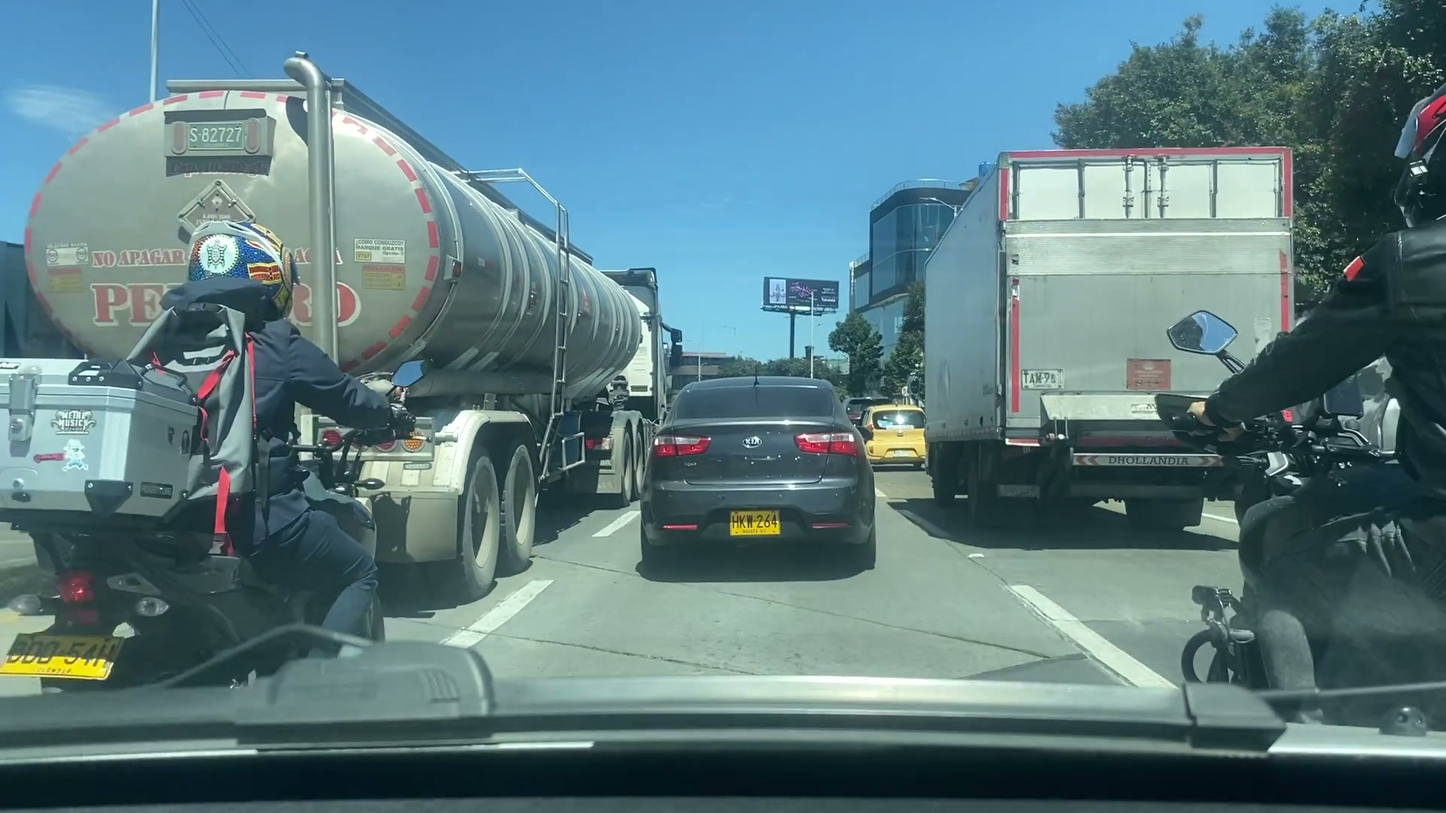car: (638, 373, 889, 574), (862, 405, 933, 469)
motorcycle: (1, 509, 387, 691)
person: (150, 213, 382, 665)
truck: (26, 52, 681, 575), (928, 144, 1296, 533)
